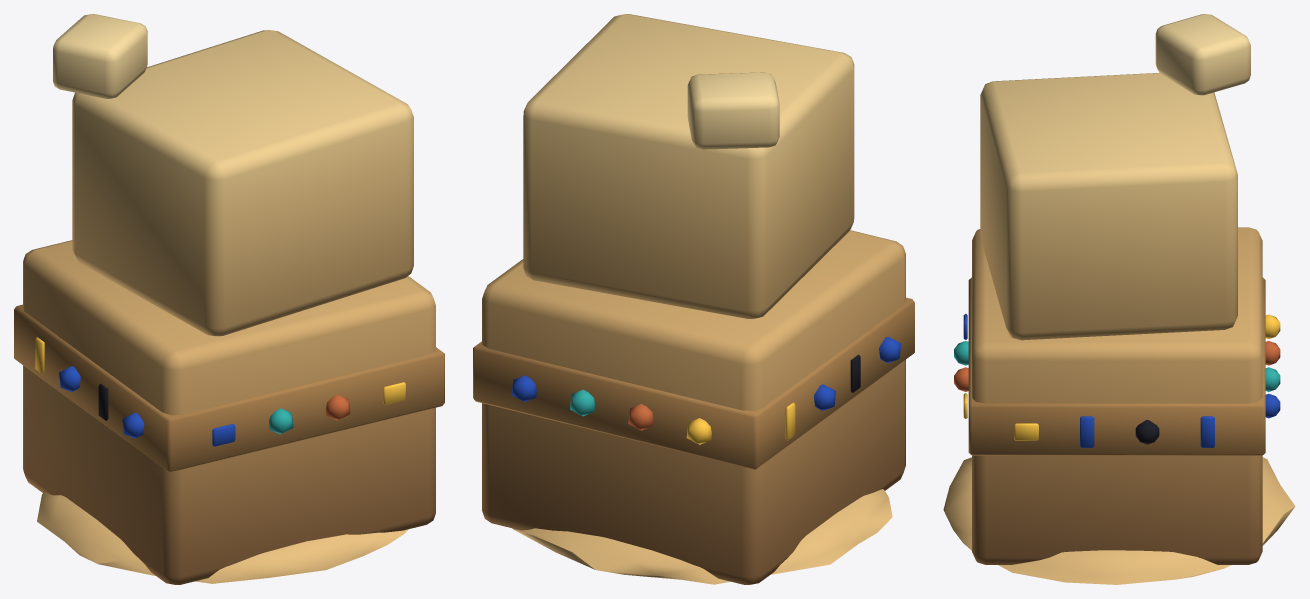
The model's file is SandBlockB.fbx.
The picture shows the model from 3 angles, left to right: view 1: azimuth 30°, elevation 25°; view 2: azimuth 150°, elevation 25°; view 3: azimuth 270°, elevation 25°; orthographic projection. The views are drawn at different scales.
Parts seen in each view (by area): view 1: SandBlockB; view 2: SandBlockB; view 3: SandBlockB.
Part boxes in pixels (x1,y1,x2,y2): SandBlockB: [14, 14, 444, 584]; SandBlockB: [473, 14, 914, 584]; SandBlockB: [943, 14, 1295, 584].
Size of the model in its own units: 1.78 by 2.36 by 1.72.
1 material, 1 textured.
